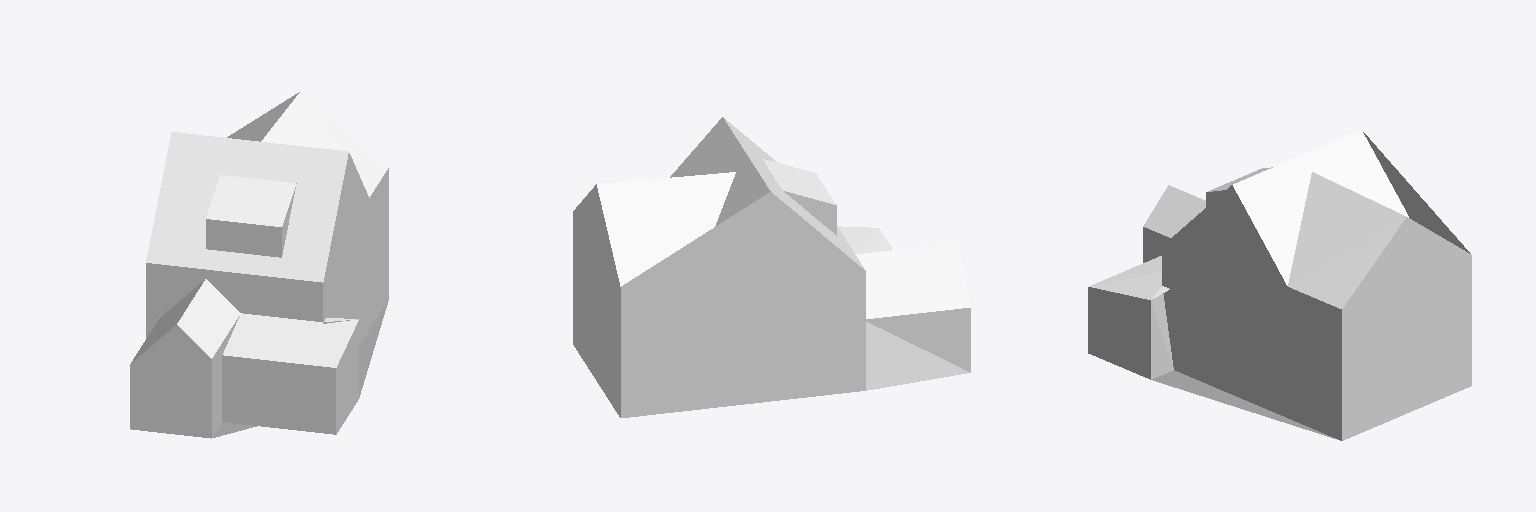
Rendered from house_Shape 355.obj.
3 renders of one model, left to right at view 1: azimuth 30°, elevation 25°; view 2: azimuth 150°, elevation 25°; view 3: azimuth 270°, elevation 25°, orthographic.
Parts seen in each view (by area): view 1: CityEngineMaterial_12, CityEngineMaterial_82, CityEngineMaterial_212, CityEngineMaterial_169; view 2: CityEngineMaterial_82, CityEngineMaterial_12, CityEngineMaterial_212; view 3: CityEngineMaterial_82, CityEngineMaterial_12, CityEngineMaterial_212, CityEngineMaterial_169.
Part boxes in pixels (x1,y1,x2,y2): CityEngineMaterial_12: (131, 91, 388, 367); CityEngineMaterial_82: (130, 183, 388, 438); CityEngineMaterial_212: (146, 153, 388, 338); CityEngineMaterial_169: (213, 300, 388, 437); CityEngineMaterial_82: (573, 159, 970, 417); CityEngineMaterial_12: (597, 117, 970, 318); CityEngineMaterial_212: (573, 184, 865, 320); CityEngineMaterial_82: (1088, 190, 1471, 440); CityEngineMaterial_12: (1089, 130, 1408, 308); CityEngineMaterial_212: (1161, 132, 1471, 343); CityEngineMaterial_169: (1152, 370, 1337, 439).
Size of the model in its own units: 15.9 by 9.7 by 16.05.